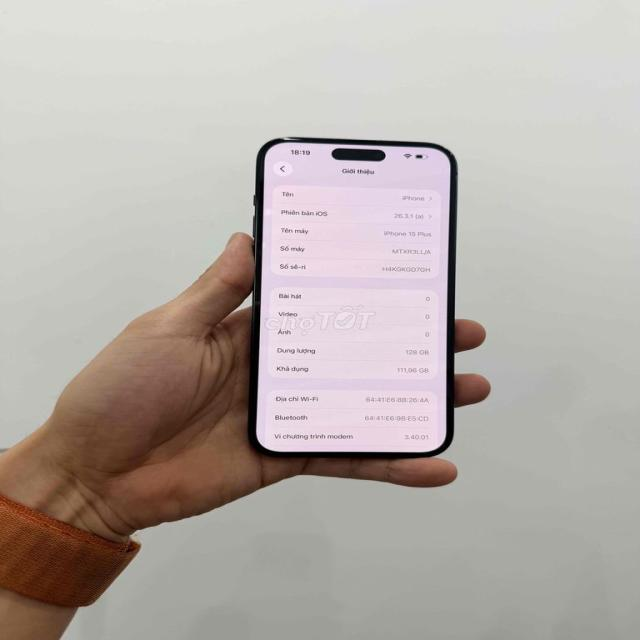gen_15: (230, 126, 467, 470)
